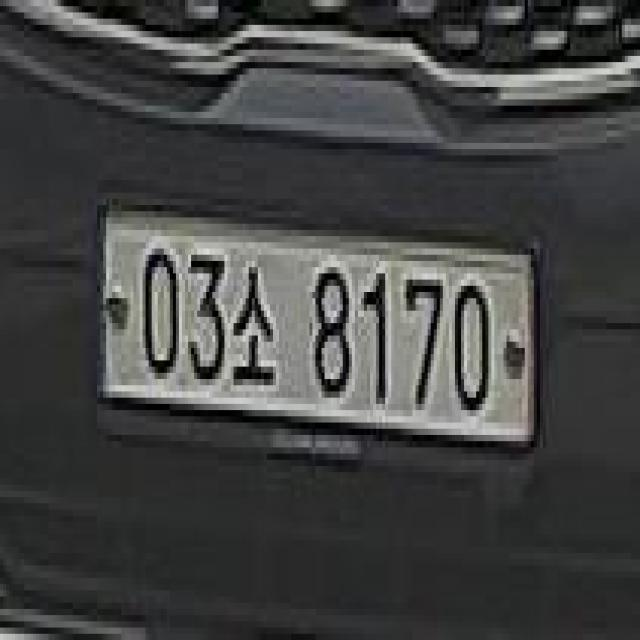illegal_plate: (97, 195, 539, 486)
